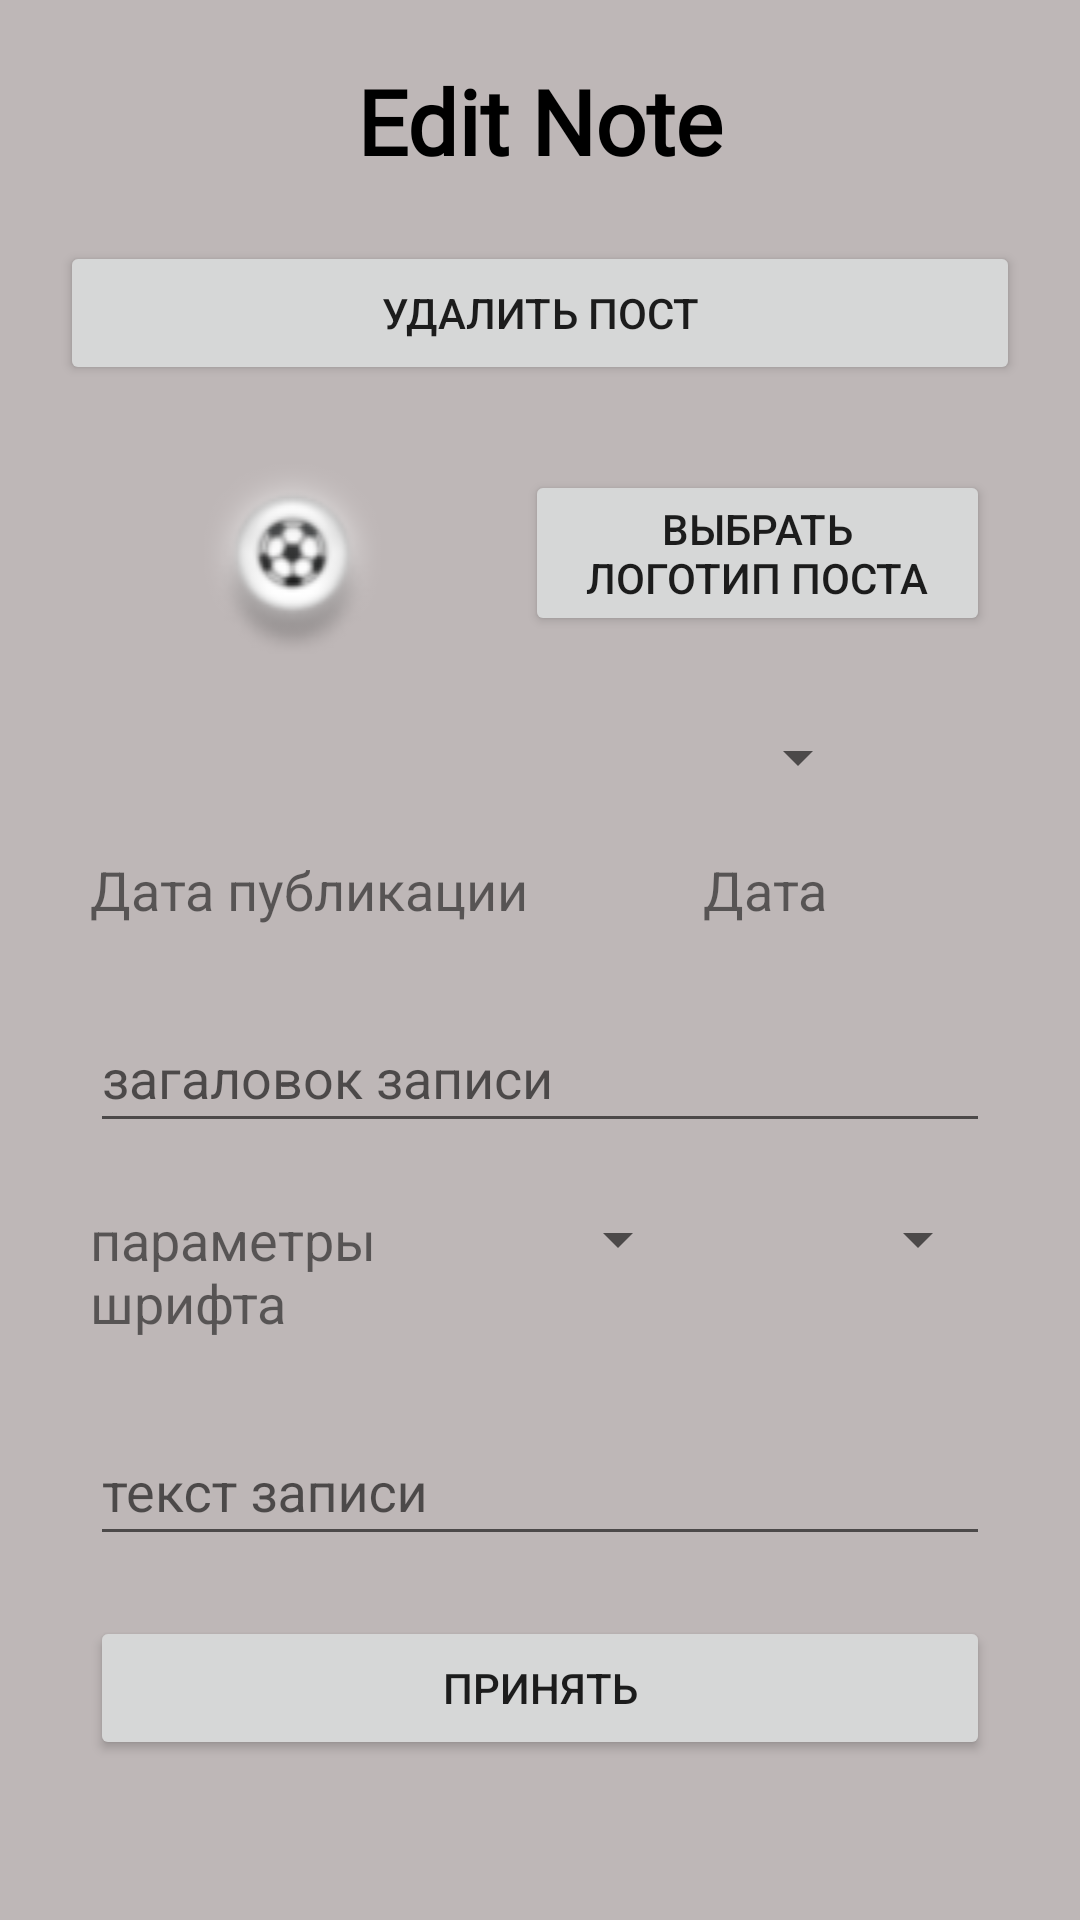

Named icons in this screenshot (1080*1920) and their centers, (x,y):
ball: (292,568)
